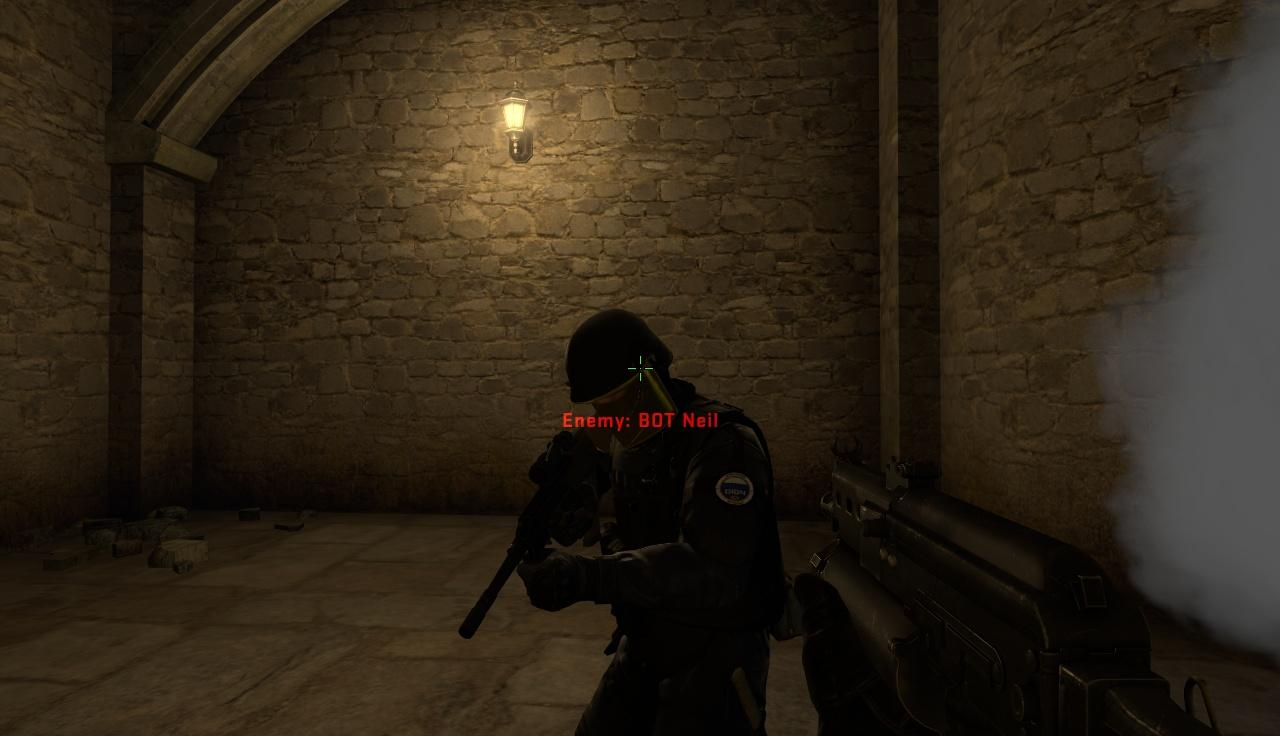ct: (529, 309, 770, 736)
cthead: (569, 312, 671, 435)
rifle: (799, 430, 1254, 732)
